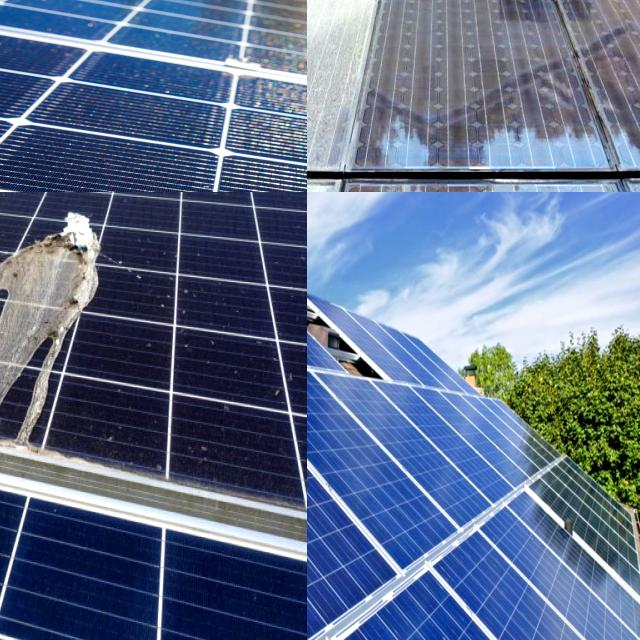bird: (0, 192, 101, 432)
crack: (0, 0, 307, 192), (307, 335, 475, 640), (307, 357, 542, 565), (307, 338, 484, 603), (387, 493, 640, 640), (307, 577, 640, 640)
dust: (307, 0, 436, 170), (307, 0, 450, 34)
